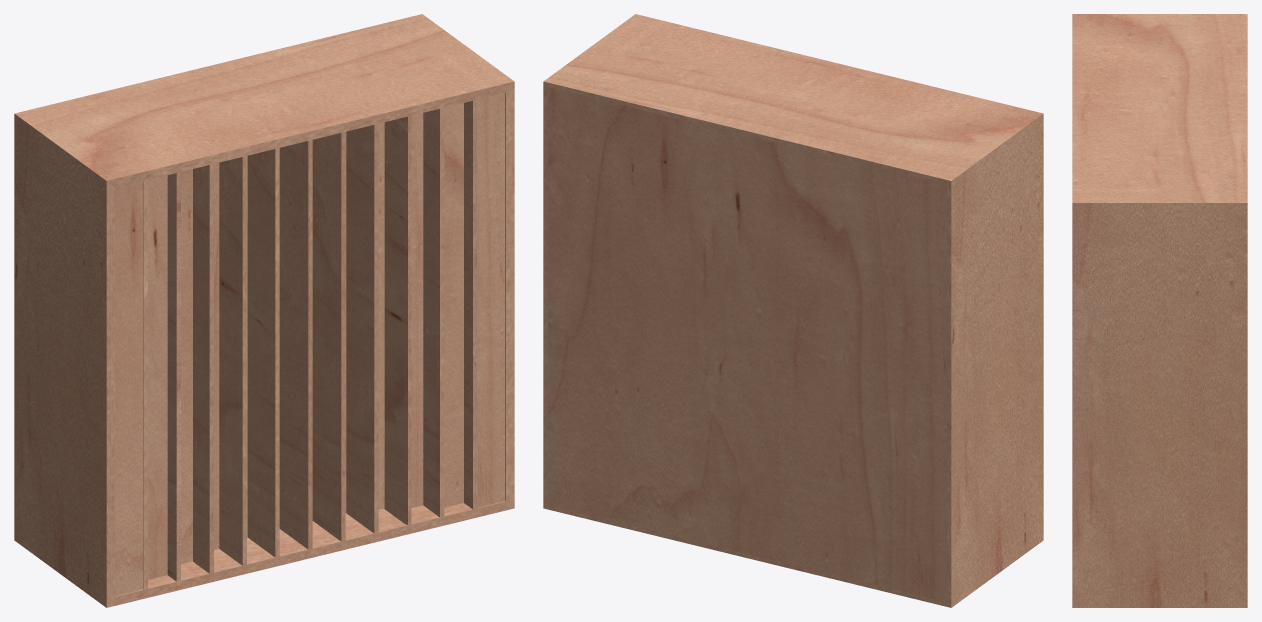
File: RQS350.glb
The picture shows the model from 3 angles, left to right: view 1: azimuth 30°, elevation 25°; view 2: azimuth 150°, elevation 25°; view 3: azimuth 270°, elevation 25°; orthographic projection. The views are drawn at different scales.
Parts seen in each view (by area): view 1: RQS350 23.625x23.625; view 2: RQS350 23.625x23.625; view 3: RQS350 23.625x23.625.
Boxes of the visible parts, <box> form: RQS350 23.625x23.625: <box>14,14,514,607</box>; RQS350 23.625x23.625: <box>543,14,1043,607</box>; RQS350 23.625x23.625: <box>1072,14,1247,607</box>.
Bounding box in the file's own units: 23.62 × 23.62 × 9.25.
Materials: 1 (1 with a texture image).
